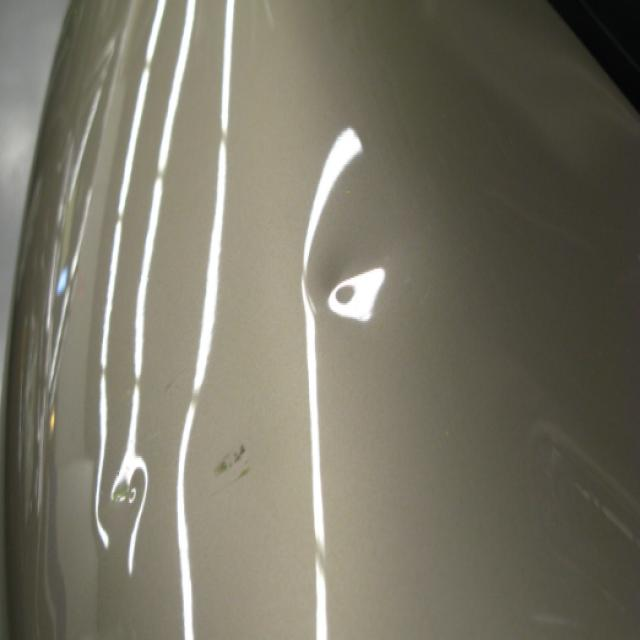dents: (287, 145, 413, 344)
